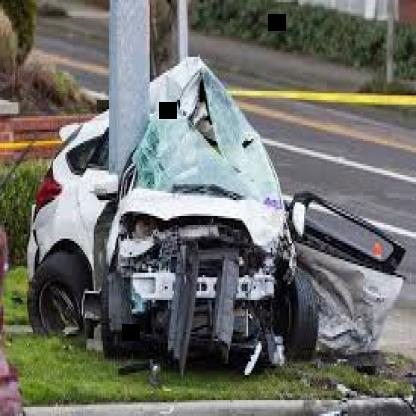accident: (19, 20, 412, 403)
